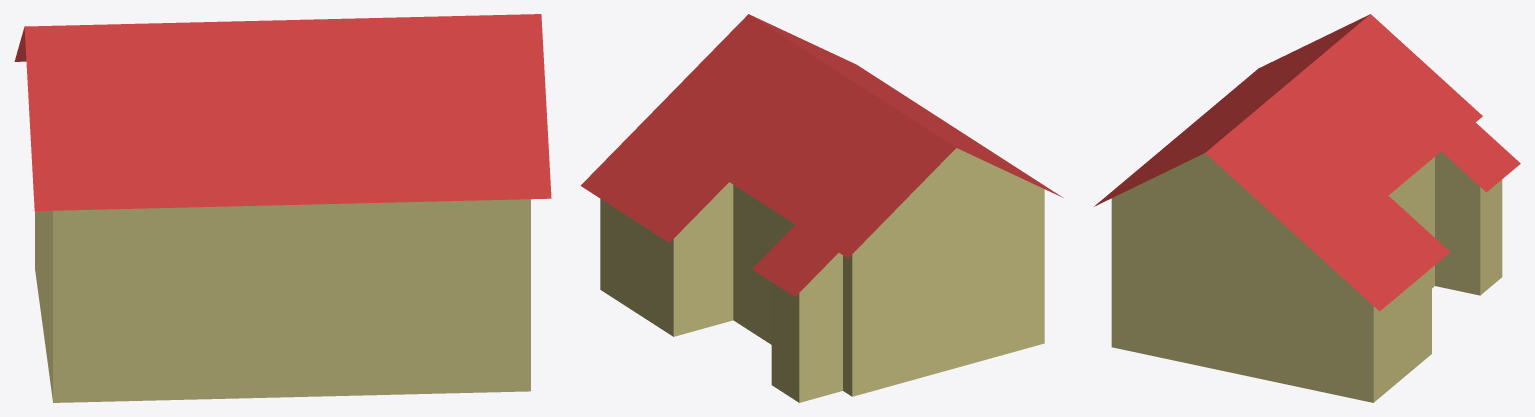
3 renders of one model, left to right at view 1: azimuth 30°, elevation 25°; view 2: azimuth 150°, elevation 25°; view 3: azimuth 270°, elevation 25°, orthographic. The views are drawn at different scales.
Size of the model in its own units: 25.44 by 23.01 by 13.1.
